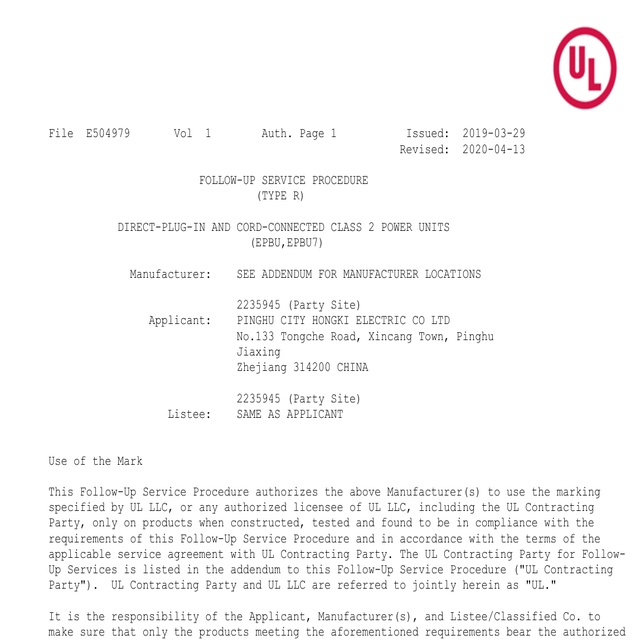ul: (552, 26, 617, 108)
